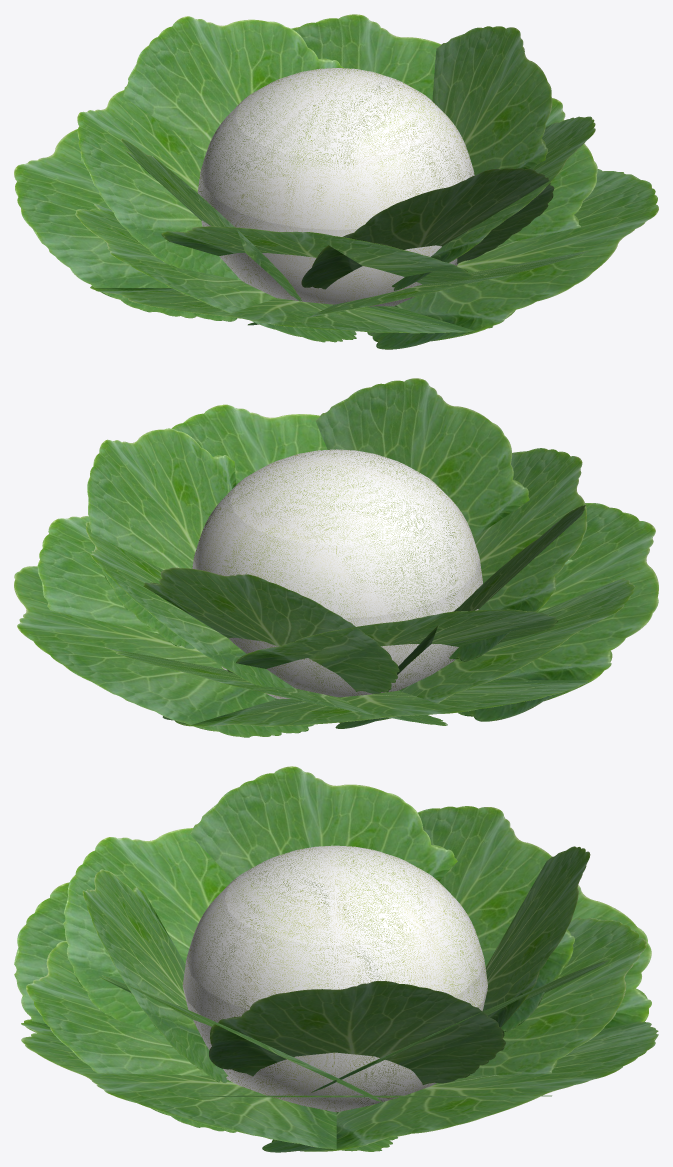
File: cabbage.dae
3 renders of one model, top to bottom at view 1: azimuth 30°, elevation 25°; view 2: azimuth 150°, elevation 25°; view 3: azimuth 270°, elevation 25°, orthographic. The views are drawn at different scales.
Visible parts, largest first — view 1: group_1, group_9, group_4, group_6, group_5, group_7, group_11, group_17, group_10, group_14, group_15, group_16 (+3 smaller); view 2: group_1, group_7, group_6, group_18, group_10, group_4, group_17, group_11, group_15, group_5, group_16, group_12 (+3 smaller); view 3: group_1, group_6, group_8, group_17, group_18, group_5, group_9, group_3, group_7, group_13, group_4, group_10 (+4 smaller).
Part boxes in pixels (x1,y1,x2,y2): group_1: [197, 68, 474, 306]; group_9: [367, 169, 658, 349]; group_4: [123, 16, 343, 152]; group_6: [432, 26, 552, 175]; group_5: [77, 90, 240, 280]; group_7: [301, 168, 554, 289]; group_11: [14, 129, 240, 321]; group_17: [161, 226, 473, 284]; group_10: [90, 286, 492, 333]; group_14: [291, 14, 441, 100]; group_15: [75, 202, 356, 342]; group_16: [392, 116, 595, 290]; group_1: [192, 449, 482, 698]; group_7: [315, 378, 529, 537]; group_6: [87, 428, 236, 649]; group_18: [14, 566, 314, 737]; group_10: [458, 503, 658, 721]; group_4: [143, 567, 399, 693]; group_17: [449, 448, 587, 661]; group_11: [162, 680, 588, 726]; group_15: [335, 578, 635, 728]; group_5: [227, 609, 558, 672]; group_16: [172, 404, 327, 484]; group_12: [37, 516, 158, 633]; group_1: [182, 845, 487, 1112]; group_6: [209, 981, 505, 1084]; group_8: [190, 766, 457, 881]; group_17: [63, 828, 232, 1036]; group_18: [262, 1021, 658, 1152]; group_5: [418, 806, 574, 1031]; group_9: [21, 1019, 397, 1151]; group_3: [469, 917, 646, 1075]; group_7: [82, 869, 227, 1083]; group_13: [26, 941, 236, 1132]; group_4: [482, 846, 590, 1027]; group_10: [14, 882, 69, 1023].
Size of the model in its own units: 24.96 by 24.96 by 10.04.
